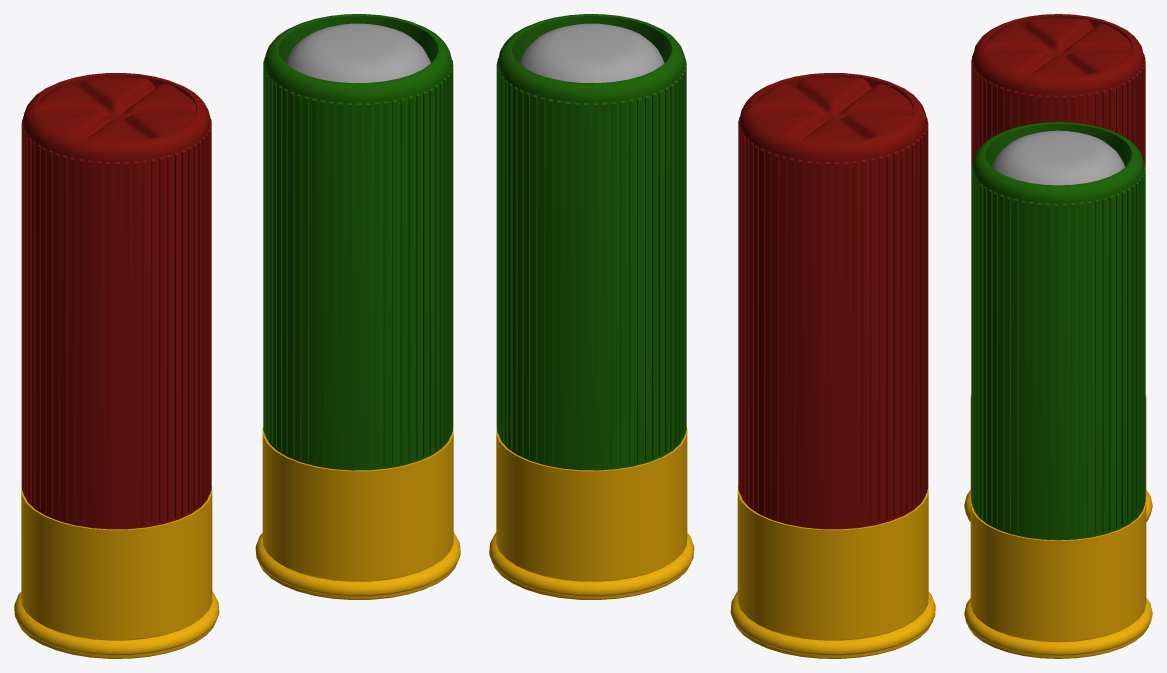
File: shotgun_shells__12_gauge_slug_and_buckshot.glb
The picture shows the model from 3 angles, left to right: view 1: azimuth 30°, elevation 25°; view 2: azimuth 150°, elevation 25°; view 3: azimuth 270°, elevation 25°; orthographic projection. The views are drawn at different scales.
Visible parts, largest first — view 1: Cylinder.001, Cylinder; view 2: Cylinder.001, Cylinder; view 3: Cylinder.001, Cylinder.
Part boxes in pixels (x1,y1,x2,y2): Cylinder.001: (255,14,460,599); Cylinder: (14,73,219,658); Cylinder.001: (489,14,694,599); Cylinder: (730,73,935,658); Cylinder.001: (964,122,1152,658); Cylinder: (964,14,1152,521).
Bounding box in the file's own units: 2.19 × 2.58 × 0.9292.
